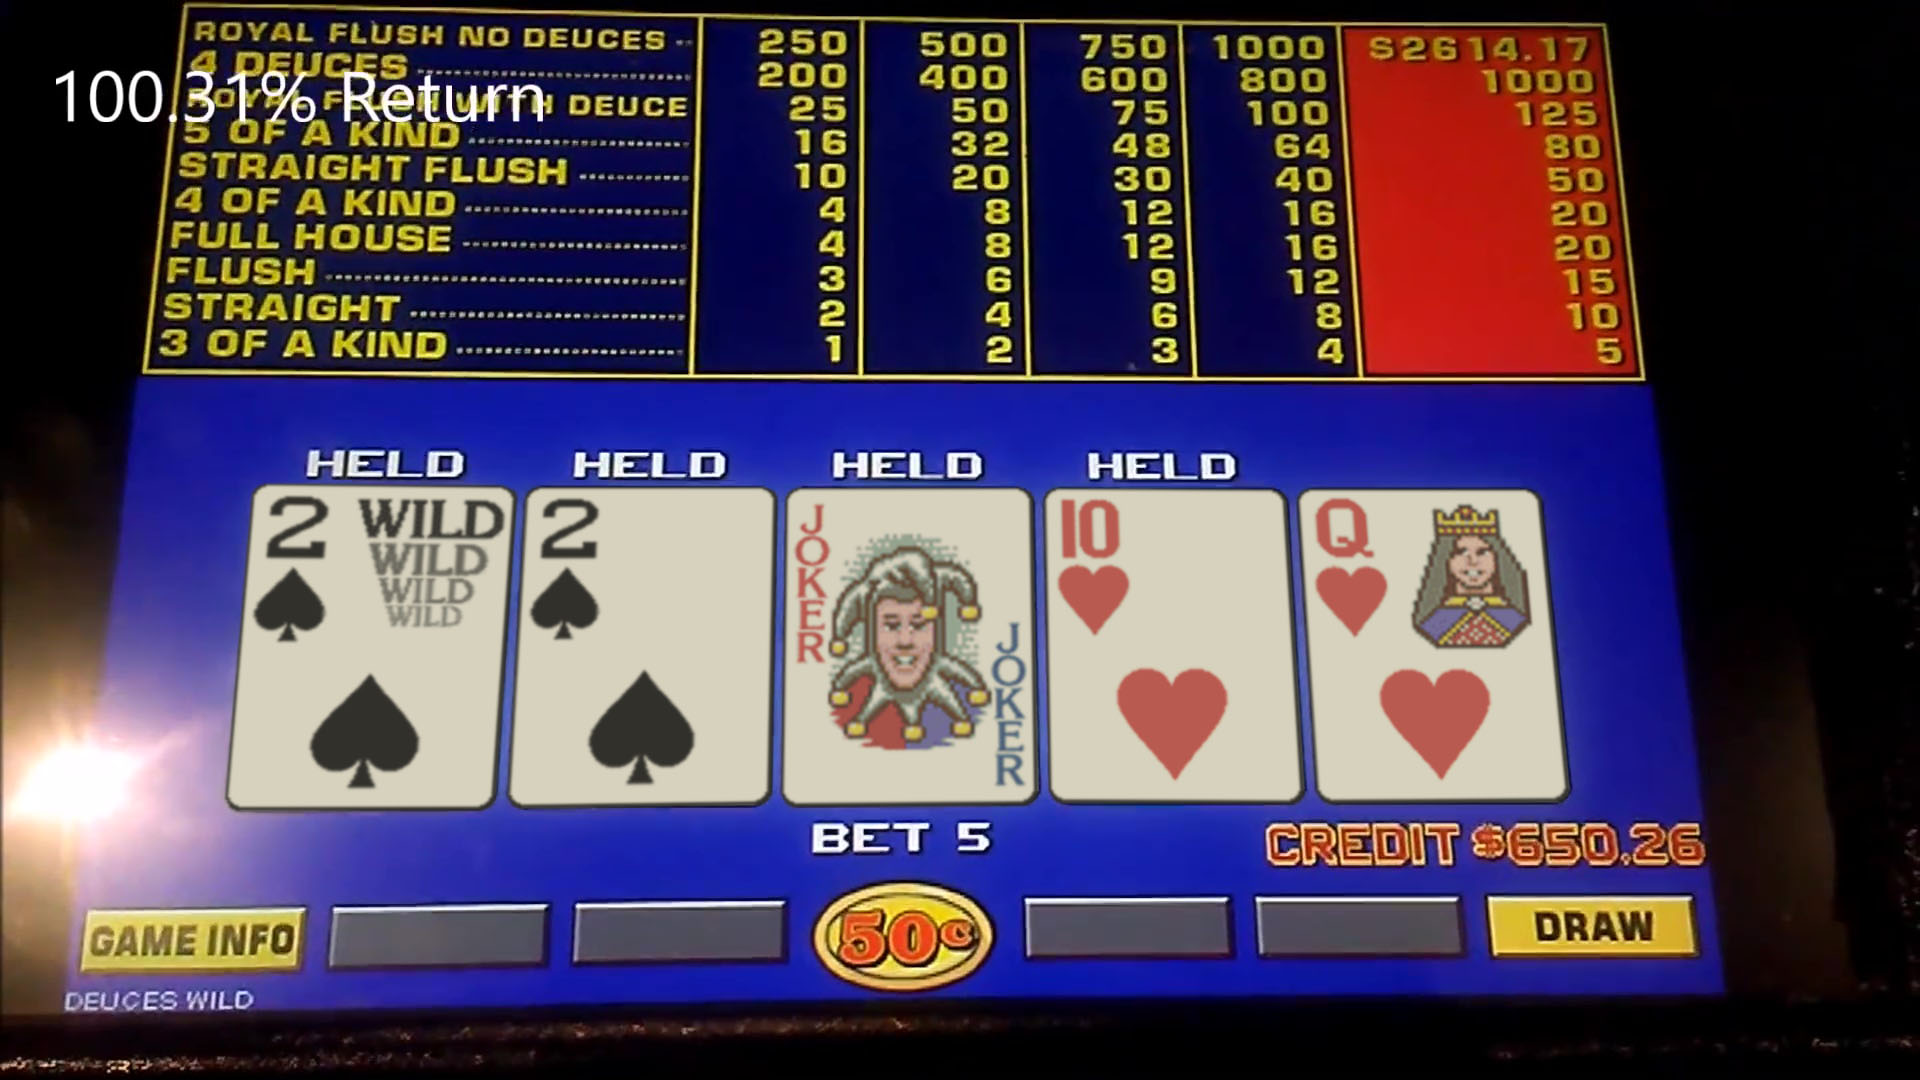HQ: (1313, 492, 1549, 802)
HT: (1048, 492, 1290, 800)
S2: (517, 491, 764, 802)
S2W: (247, 487, 498, 808)
joker: (786, 489, 1035, 803)
